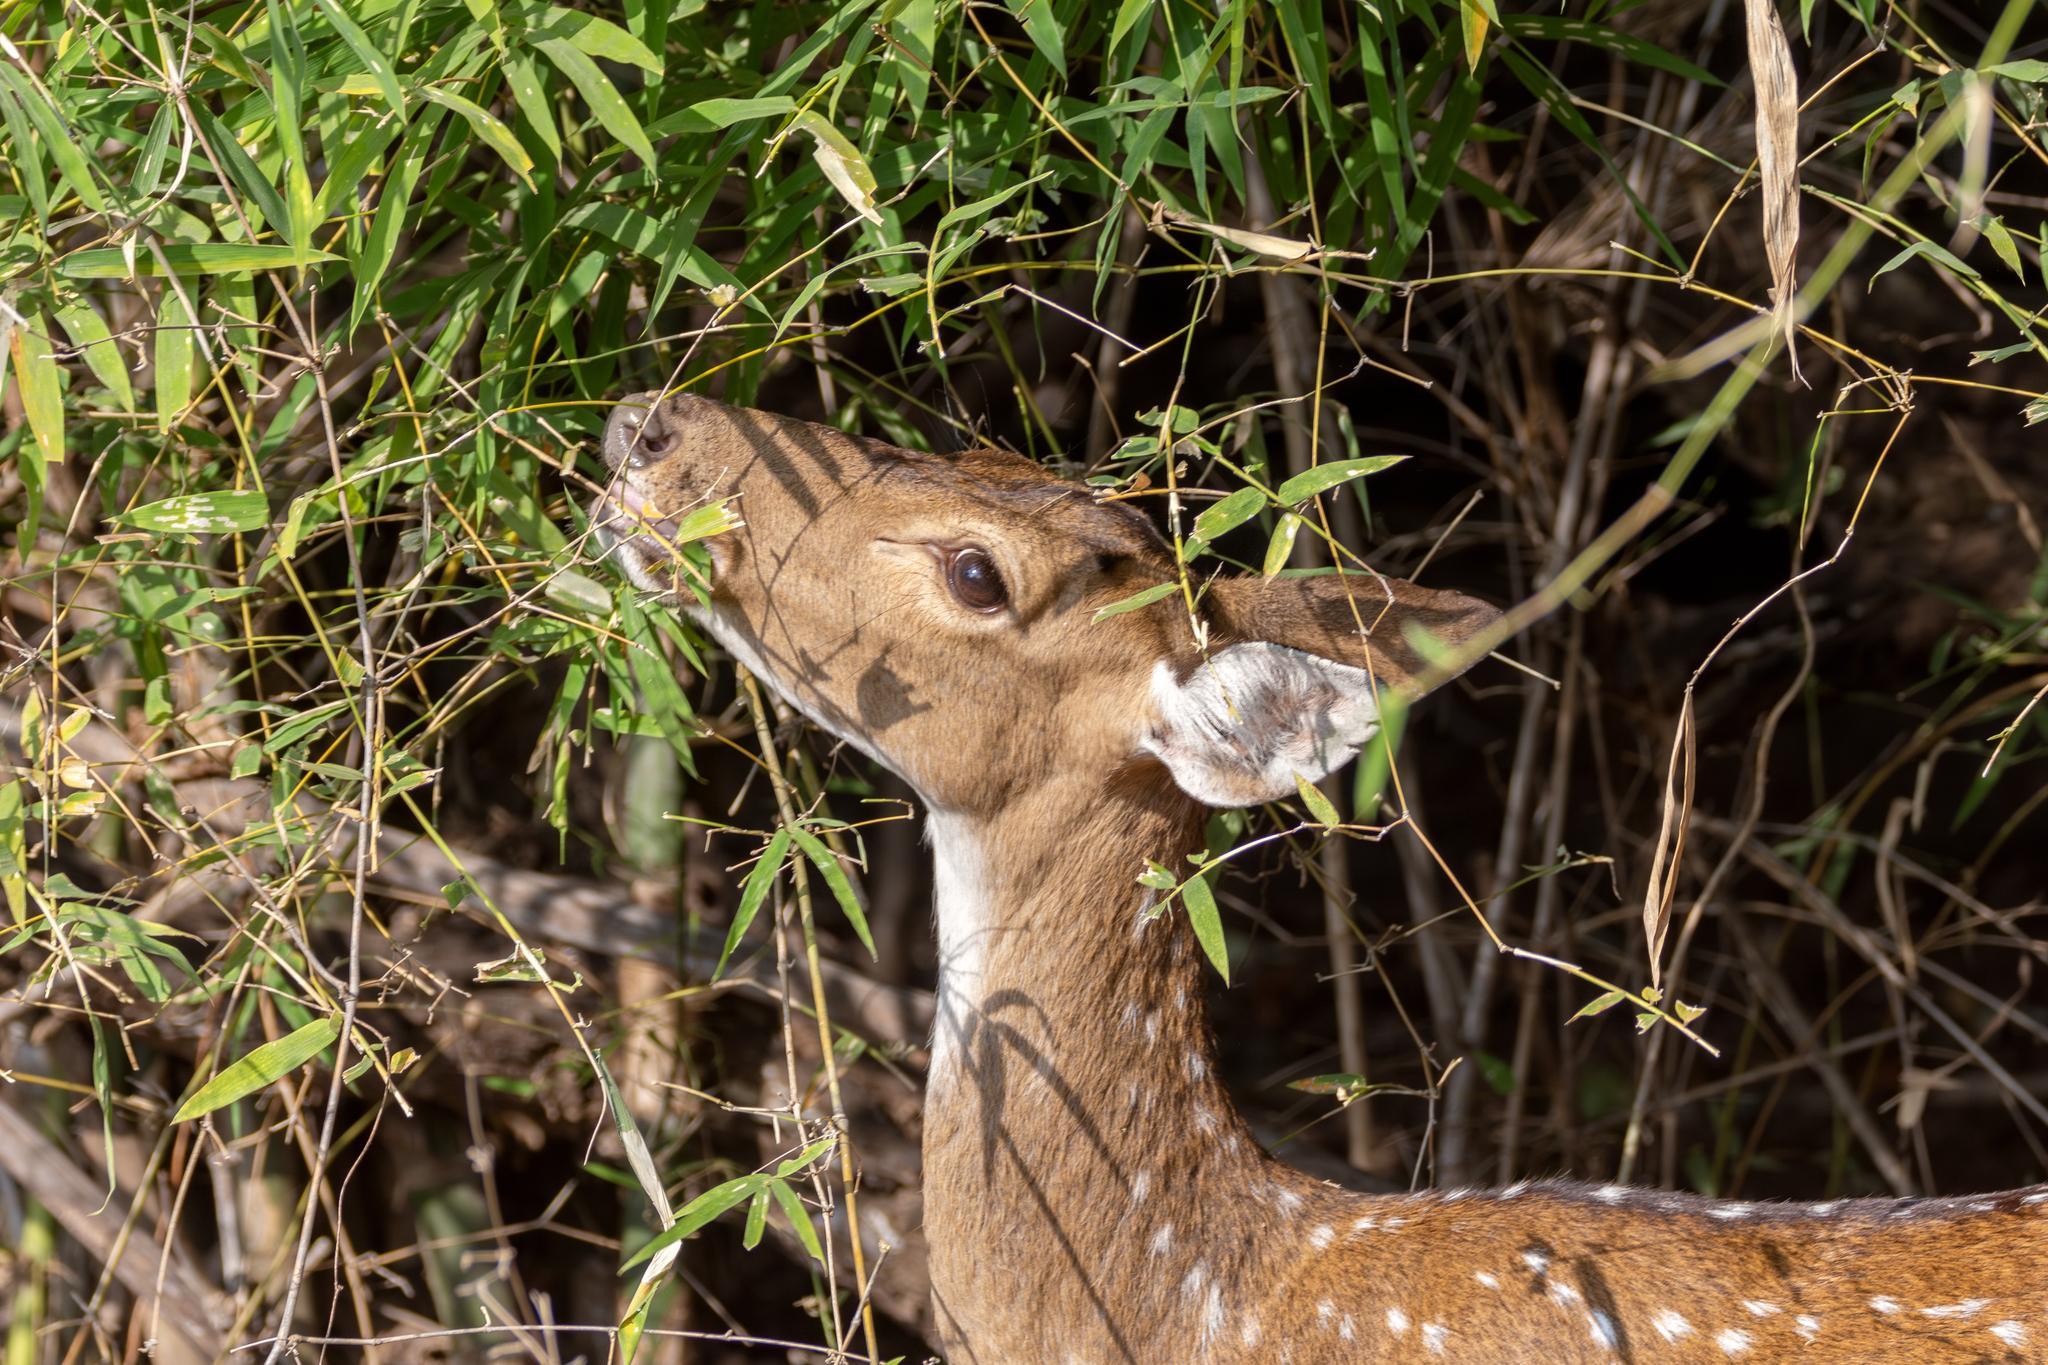Deer: (590, 392, 2047, 1364)
